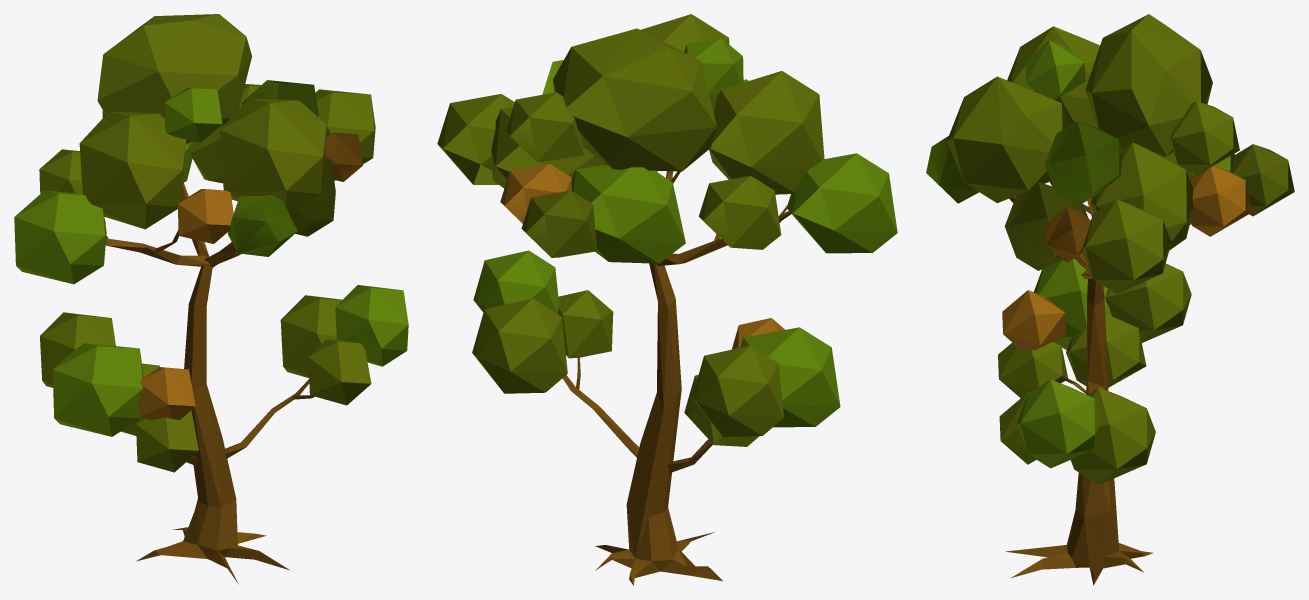
File: Acacia Tree2.fbx
3 renders of one model, left to right at view 1: azimuth 30°, elevation 25°; view 2: azimuth 150°, elevation 25°; view 3: azimuth 270°, elevation 25°, orthographic. The views are drawn at different scales.
Visible parts, largest first — view 1: Tree2; view 2: Tree2; view 3: Tree2.
Boxes of the visible parts, <box> form: Tree2: <box>14,14,408,584</box>; Tree2: <box>437,14,897,585</box>; Tree2: <box>926,14,1294,585</box>.
Size of the model in its own units: 727 by 905 by 573.
1 material, 1 textured.
